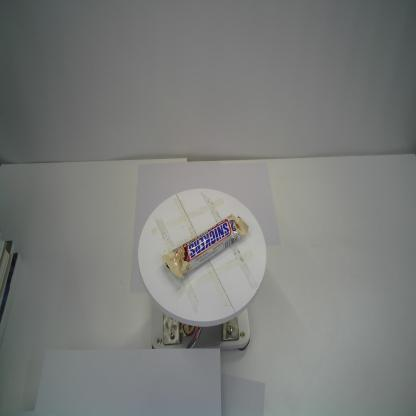Chocolate: (160, 210, 250, 283)
